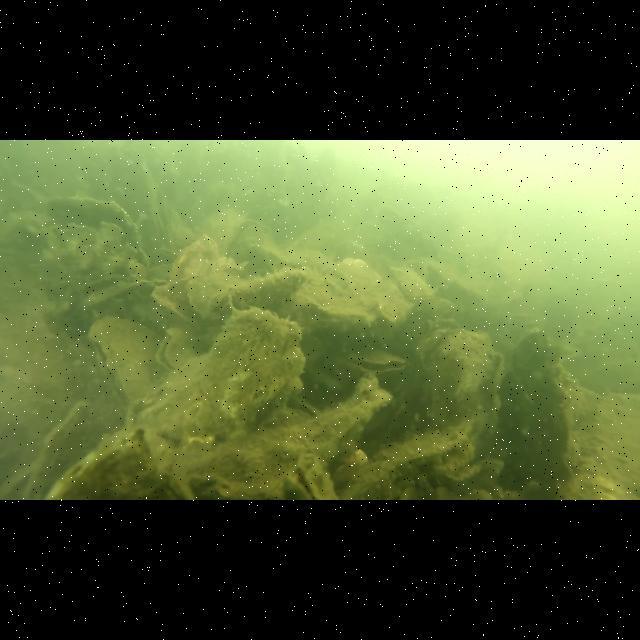Oyster-Closed: (186, 386, 388, 500), (137, 308, 306, 442), (497, 328, 579, 490), (412, 327, 502, 441), (41, 434, 187, 501), (343, 430, 475, 500), (211, 272, 307, 316), (168, 232, 220, 280), (410, 294, 456, 330)
Oyster-Open: (86, 315, 158, 405), (151, 272, 245, 326), (282, 454, 336, 501), (334, 346, 406, 376), (154, 328, 200, 374)
